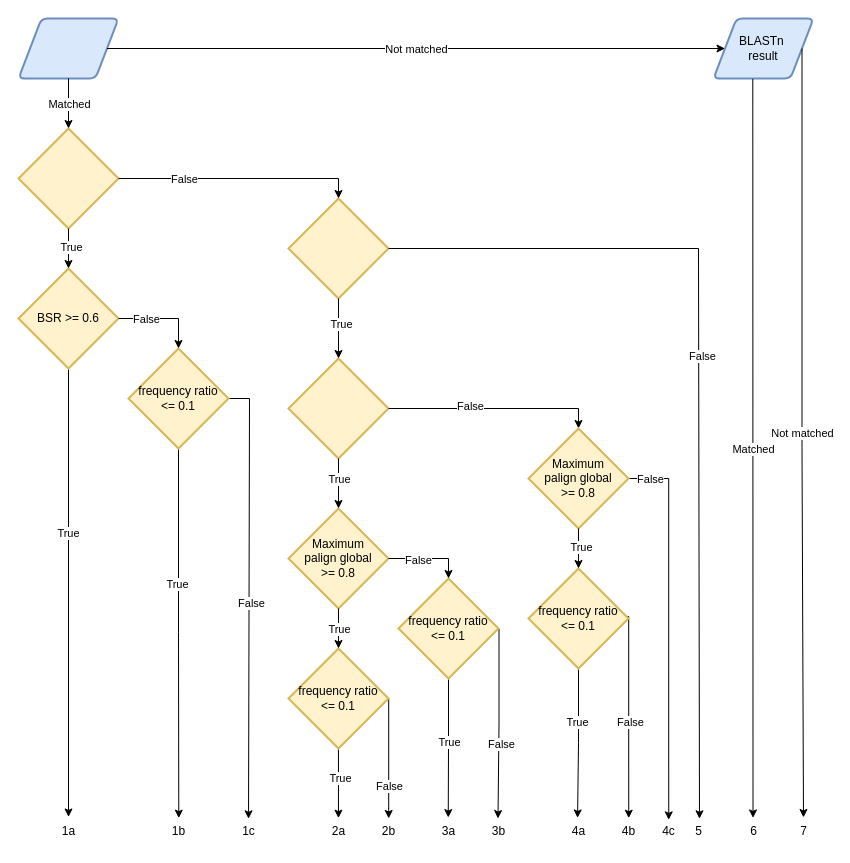
The diagram is 850 pixels wide and 863 high, and some of its shapes have lost their labels. The shapes that lost their labels are listed below. From the top down, each one's centre as x and y in pixels, then its label:
At pixel 68 48: "BLASTp result".
At pixel 68 178: "Minimum palign global >= 0.8".
At pixel 338 248: "0.4 <= Minimum palign global < 0.8".
At pixel 338 408: "Pident >= 0.9".
